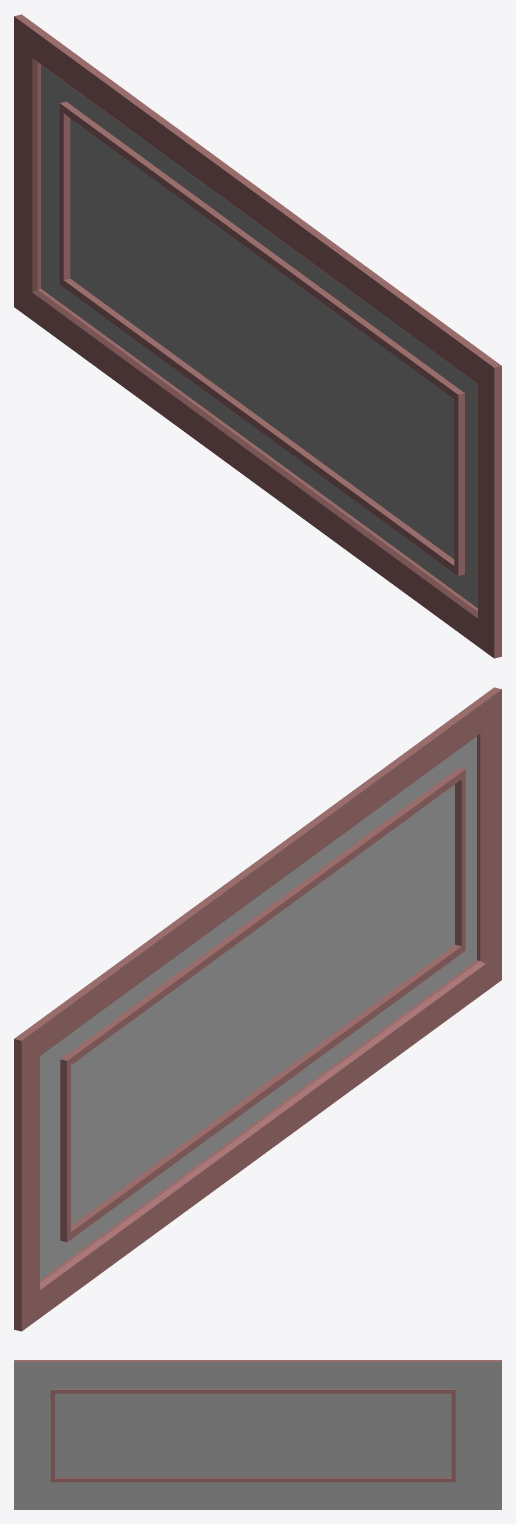
The model's file is wall_outline_misc.fbx.
The picture shows the model from 3 angles, top to bottom: view 1: azimuth 30°, elevation 25°; view 2: azimuth 150°, elevation 25°; view 3: azimuth 270°, elevation 25°; orthographic projection. The views are drawn at different scales.
Parts seen in each view (by area): view 1: pCube4, pCube5, pCube6, pCube8, pCube7; view 2: pCube4, pCube5, pCube6, pCube8, pCube7; view 3: pCube4, pCube6, pCube5, pCube7, pCube8.
Boxes of the visible parts, x1=… form: pCube4: x1=14, y1=14, x2=501, y2=658; pCube5: x1=59, y1=101, x2=464, y2=399; pCube6: x1=59, y1=277, x2=464, y2=575; pCube8: x1=59, y1=110, x2=70, y2=279; pCube7: x1=454, y1=395, x2=464, y2=570; pCube4: x1=14, y1=687, x2=501, y2=1331; pCube5: x1=60, y1=767, x2=465, y2=1067; pCube6: x1=60, y1=944, x2=465, y2=1242; pCube8: x1=60, y1=1064, x2=70, y2=1235; pCube7: x1=455, y1=773, x2=465, y2=947; pCube4: x1=14, y1=1360, x2=501, y2=1509; pCube6: x1=50, y1=1477, x2=455, y2=1482; pCube5: x1=50, y1=1389, x2=455, y2=1393; pCube7: x1=50, y1=1392, x2=54, y2=1478; pCube8: x1=451, y1=1393, x2=455, y2=1478.
Bounding box in the file's own units: 0.3764 × 9.56 × 28.61.
